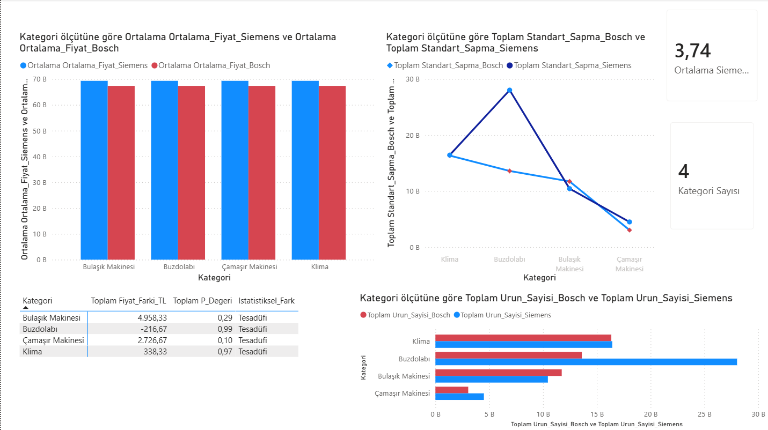

The page's visual inventory and layout, read from the dashboard file:
{"tool":"powerbi","page":{"name":"1. sayfa","canvas":[1280,720],"ordinal":0},"visuals":[{"type":"clusteredColumnChart","fields":{"Category":["Kanibalizm_Analizi.Kategori"],"Y":["Avg(Kategori (Kanibalizm_Analizi).Ortalama_Fiyat_Siemens)","Avg(Kategori (Kanibalizm_Analizi).Ortalama_Fiyat_Bosch)"]},"box":[26.3,51.6,605,426],"z":0},{"type":"cardVisual","fields":{"Data":["Avg(Kategori (Kanibalizm_Analizi).Siemens_Prim_Yuzde)"]},"box":[1093.3,0,186.7,187.7],"z":1000},{"type":"cardVisual","fields":{"Data":["Count(Kanibalizm_Analizi.Kategori)"]},"box":[1100.1,187.7,173.1,214],"z":2000},{"type":"pivotTable","fields":{"Rows":["Kanibalizm_Analizi.Kategori"],"Values":["Sum(Kanibalizm_Analizi.Fiyat_Farki_TL)","Sum(Kanibalizm_Analizi.P_Degeri)","Min(Kanibalizm_Analizi.Istatistiksel_Fark)"]},"box":[26,488,605,232],"z":3000},{"type":"clusteredBarChart","fields":{"Category":["Kanibalizm_Analizi.Kategori"],"Y":["Sum(Kanibalizm_Analizi.Urun_Sayisi_Bosch)","Sum(Kanibalizm_Analizi.Urun_Sayisi_Siemens)"]},"box":[593.3,488.3,686.7,231.5],"z":4000},{"type":"lineChart","fields":{"Category":["Kanibalizm_Analizi.Kategori"],"Y":["Sum(Kanibalizm_Analizi.Standart_Sapma_Bosch)","Sum(Kanibalizm_Analizi.Standart_Sapma_Siemens)"]},"box":[638.1,51.6,462,426],"z":5000}]}

Visuals, with their boxes in screenshot pixels (x1, y1, x2, y2), scaled from the page's 1280x720 canvas onto the 768x430 screenshot:
clusteredColumnChart - Kanibalizm_Analizi.Kategori x Avg(Kategori (Kanibalizm_Analizi).Ortalama_Fiyat_Siemens): 16 31 379 285
cardVisual - Avg(Kategori (Kanibalizm_Analizi).Siemens_Prim_Yuzde): 656 0 767 112
cardVisual - Count(Kanibalizm_Analizi.Kategori): 660 112 764 240
pivotTable - Kanibalizm_Analizi.Kategori x Sum(Kanibalizm_Analizi.Fiyat_Farki_TL): 16 291 379 429
clusteredBarChart - Kanibalizm_Analizi.Kategori x Sum(Kanibalizm_Analizi.Urun_Sayisi_Bosch): 356 292 767 429
lineChart - Kanibalizm_Analizi.Kategori x Sum(Kanibalizm_Analizi.Standart_Sapma_Bosch): 383 31 660 285
